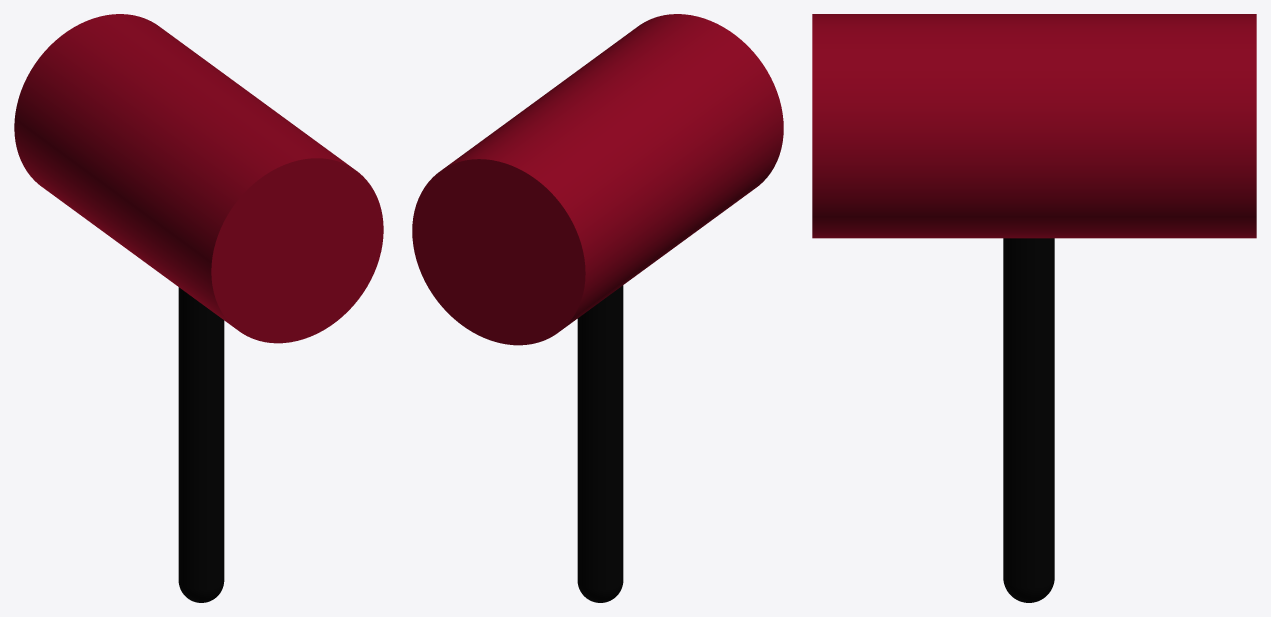
Rendered from hammer.glb.
3 renders of one model, left to right at view 1: azimuth 30°, elevation 25°; view 2: azimuth 150°, elevation 25°; view 3: azimuth 270°, elevation 25°, orthographic. The views are drawn at different scales.
Visible parts, largest first — view 1: node_id8, node_id5; view 2: node_id8, node_id5; view 3: node_id8, node_id5.
Part boxes in pixels (<box>): node_id8: <box>14,14,383,343</box>; node_id5: <box>178,287,224,602</box>; node_id8: <box>412,14,783,345</box>; node_id5: <box>577,285,623,602</box>; node_id8: <box>812,14,1256,238</box>; node_id5: <box>1003,238,1054,602</box>.
Size of the model in its own units: 0.1808 by 0.512 by 0.3581.
Materials: 2 (2 with a texture image).
